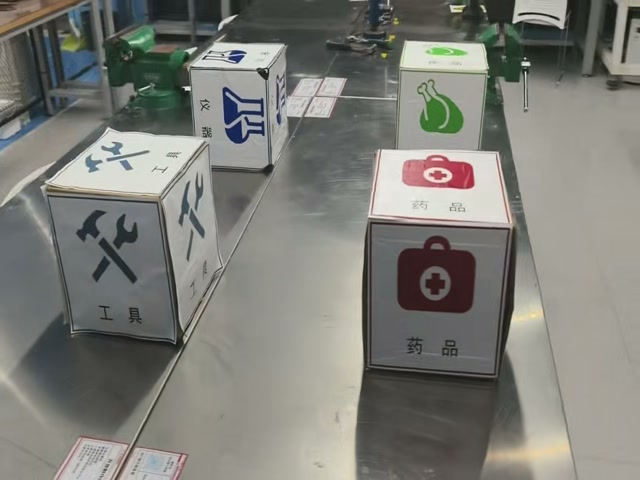Cube_food: (400, 41, 487, 69)
Cube_ins: (190, 42, 285, 69)
Cube_medicine: (368, 150, 513, 227)
Cube_tool: (46, 129, 206, 207)
